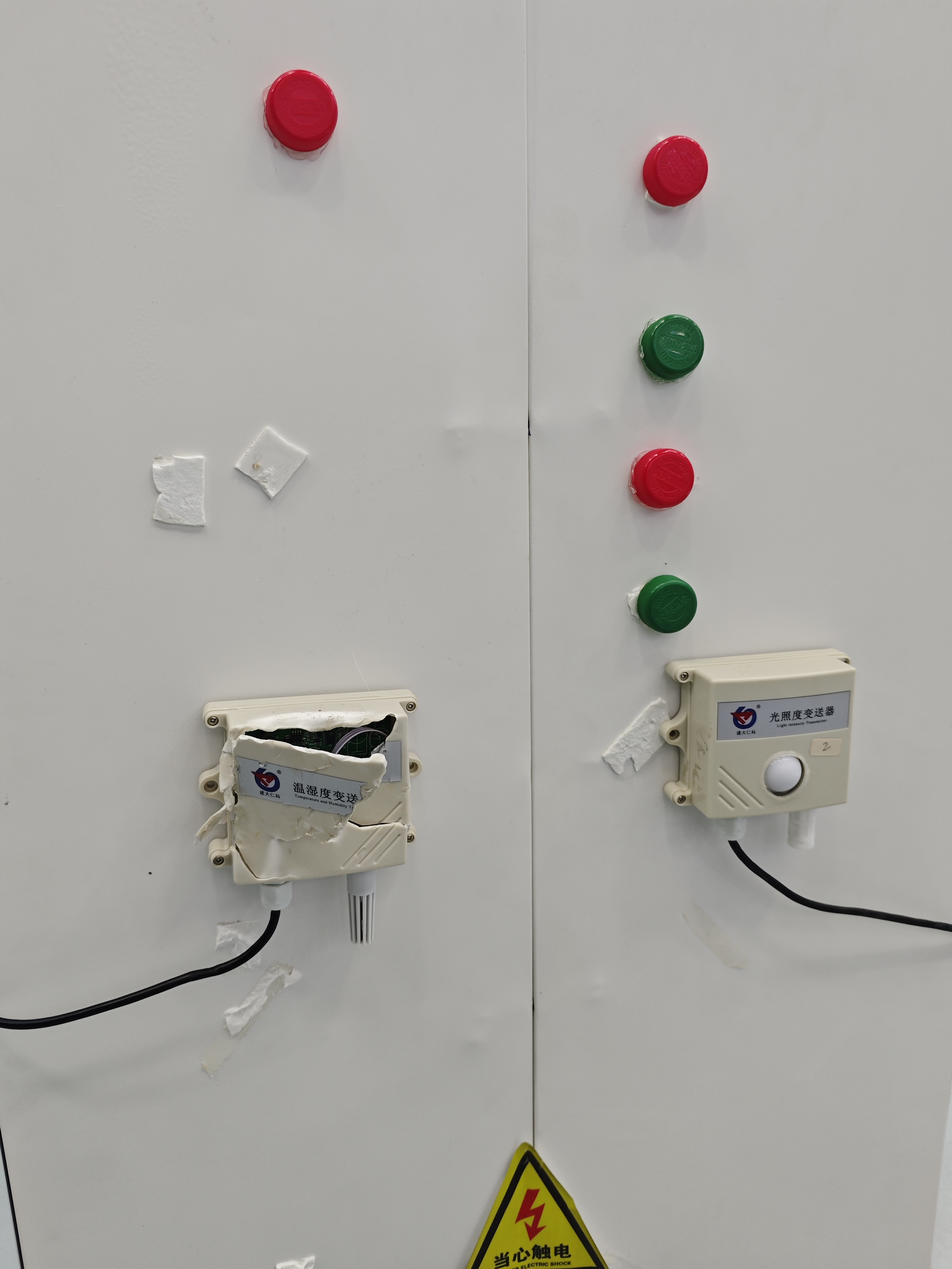red_warning: (607, 426, 736, 538), (242, 54, 362, 173), (627, 89, 727, 223)
sensor_damage: (176, 672, 471, 953)
